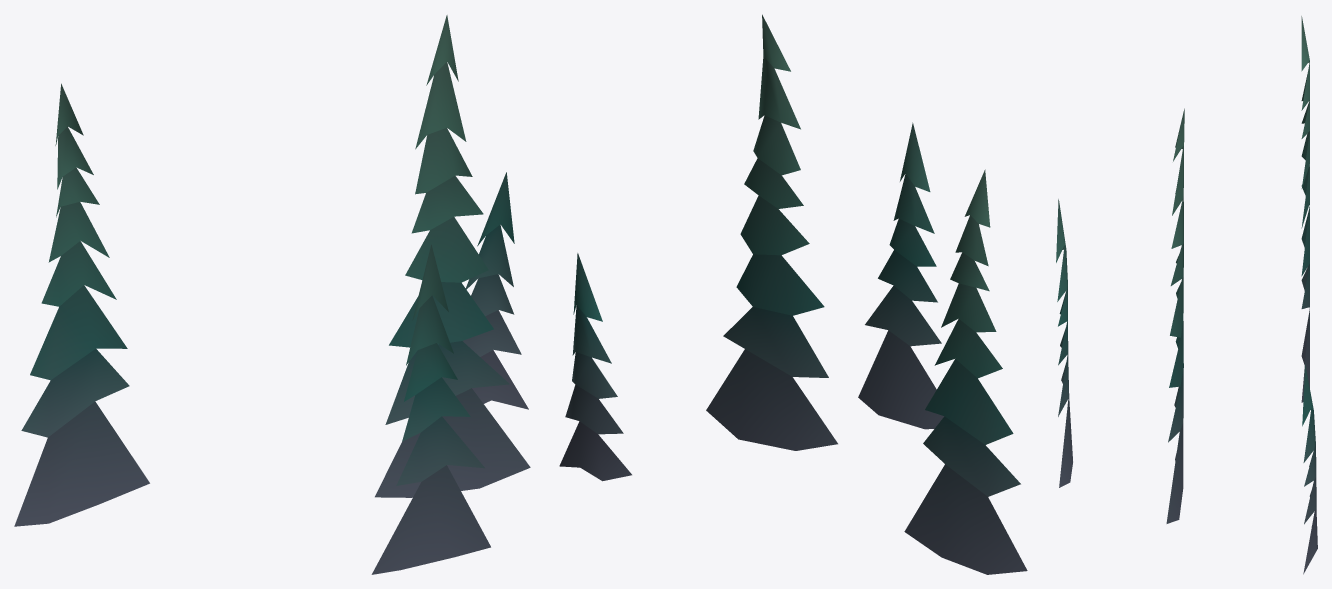
The model's file is Prop-distance_spruces_01.glb.
The picture shows the model from 3 angles, left to right: view 1: azimuth 30°, elevation 25°; view 2: azimuth 150°, elevation 25°; view 3: azimuth 270°, elevation 25°; orthographic projection. The views are drawn at different scales.
Visible parts, largest first — view 1: Prop-distance_spruces_01; view 2: Prop-distance_spruces_01; view 3: Prop-distance_spruces_01.
Part boxes in pixels (x1,y1,x2,y2): Prop-distance_spruces_01: (14,15,530,574); Prop-distance_spruces_01: (559,14,1027,574); Prop-distance_spruces_01: (1056,16,1317,574).
Bounding box in the file's own units: 14.15 × 12.72 × 7.44.
